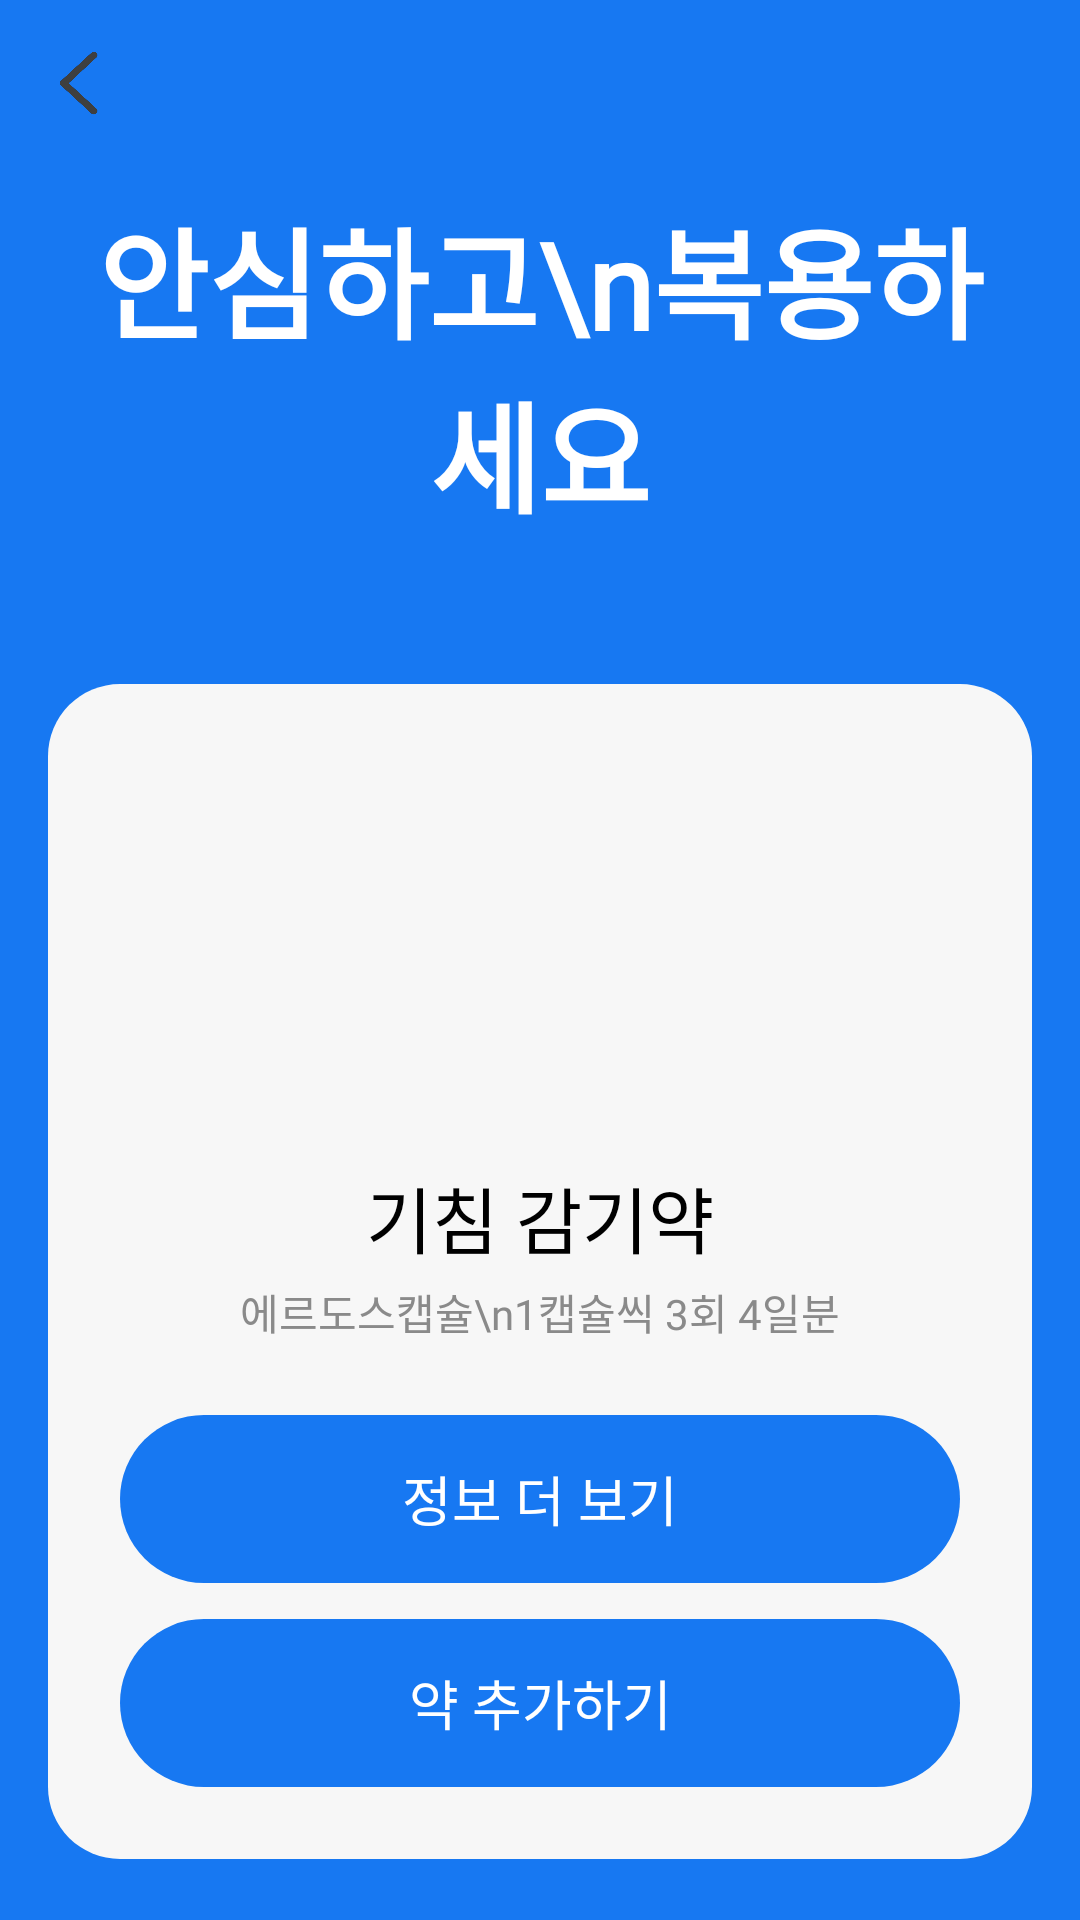

Locate icon controls on the screen. Image size 1080x1920, boxes as (x1, y1, x2, y2).
return: (60, 52, 98, 114)
